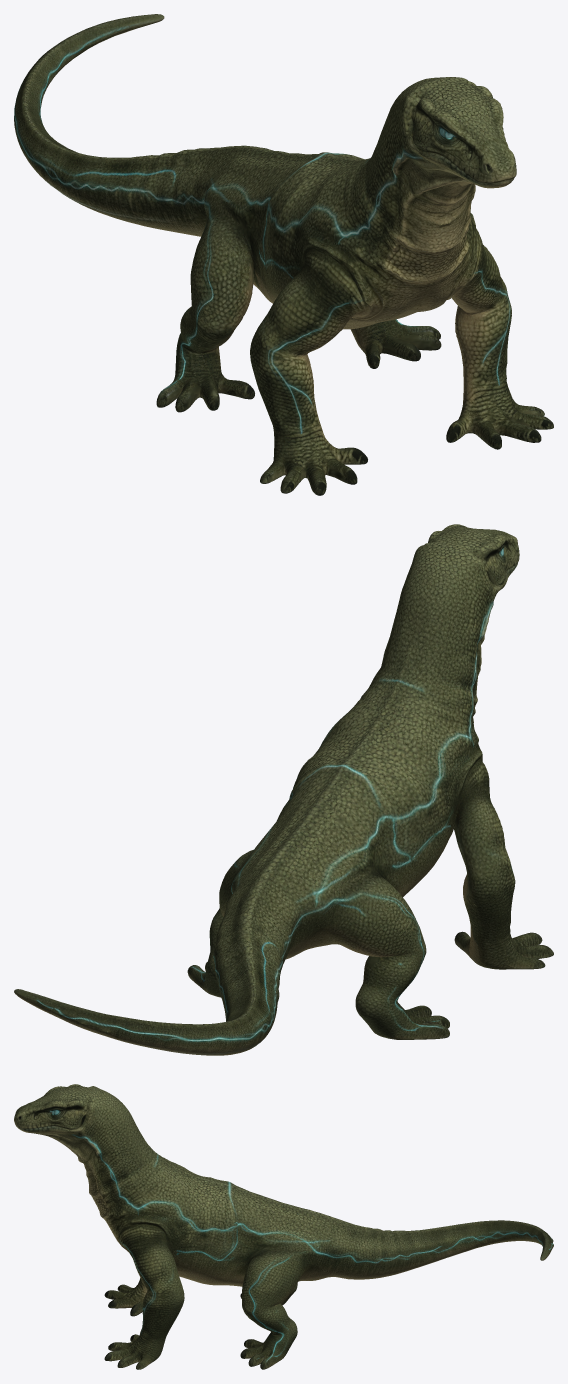
Rendered from mangrove_monitor_a.glb.
The picture shows the model from 3 angles, top to bottom: view 1: azimuth 30°, elevation 25°; view 2: azimuth 150°, elevation 25°; view 3: azimuth 270°, elevation 25°; orthographic projection. The views are drawn at different scales.
Visible parts, largest first — view 1: Mesh_0; view 2: Mesh_0; view 3: Mesh_0.
Boxes of the visible parts, bbox=[...] form: Mesh_0: bbox=[14, 14, 553, 495]; Mesh_0: bbox=[14, 524, 553, 1055]; Mesh_0: bbox=[14, 1084, 553, 1369].
Bounding box in the file's own units: 0.6925 × 0.9273 × 1.9.
Materials: 1 (1 with a texture image).
